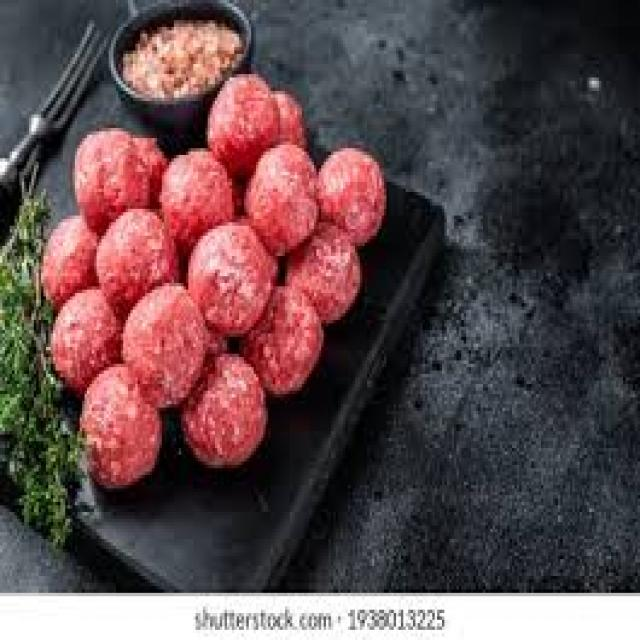Meatball: (66, 360, 170, 494), (172, 356, 276, 471), (88, 205, 186, 320), (120, 286, 210, 400), (278, 223, 372, 332), (184, 224, 275, 336), (67, 122, 155, 233), (239, 282, 326, 391), (244, 144, 326, 253), (44, 284, 125, 394), (154, 143, 236, 249), (316, 144, 391, 254), (205, 67, 283, 168)
